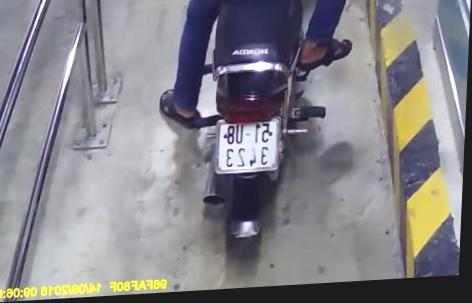License_Plate: (208, 113, 286, 180)
